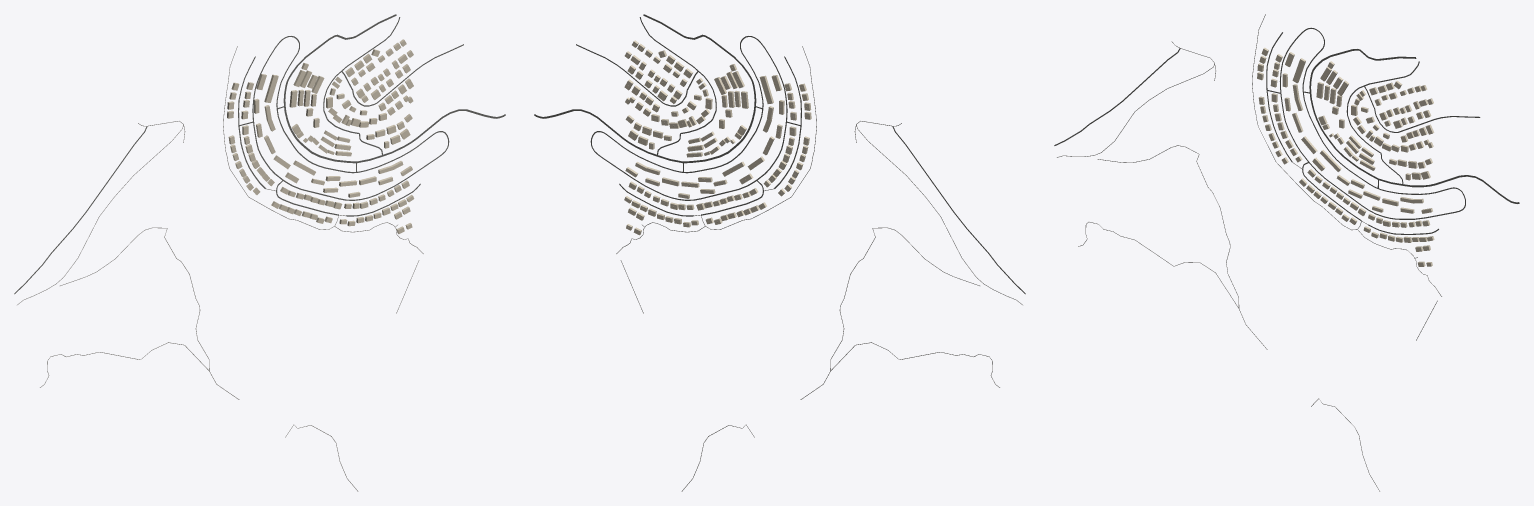
Rendered from historic-palestine-08_23_3497_3173.glb.
3 renders of one model, left to right at view 1: azimuth 30°, elevation 25°; view 2: azimuth 150°, elevation 25°; view 3: azimuth 330°, elevation 25°, orthographic. The views are drawn at different scales.
Parts seen in each view (by area): view 1: Road הנרקיס, Road הרקפת; view 2: Road הנרקיס, Road הרקפת; view 3: Road הנרקיס, Road הרקפת.
Part boxes in pixels (bbox=[...]): Road הנרקיס: bbox=[252, 36, 449, 200]; Road הרקפת: bbox=[283, 14, 505, 163]; Road הנרקיס: bbox=[590, 36, 787, 200]; Road הרקפת: bbox=[534, 14, 756, 163]; Road הנרקיס: bbox=[1279, 27, 1465, 219]; Road הרקפת: bbox=[1309, 49, 1519, 203].
Size of the model in its own units: 1415 by 1307 by 8.7.
